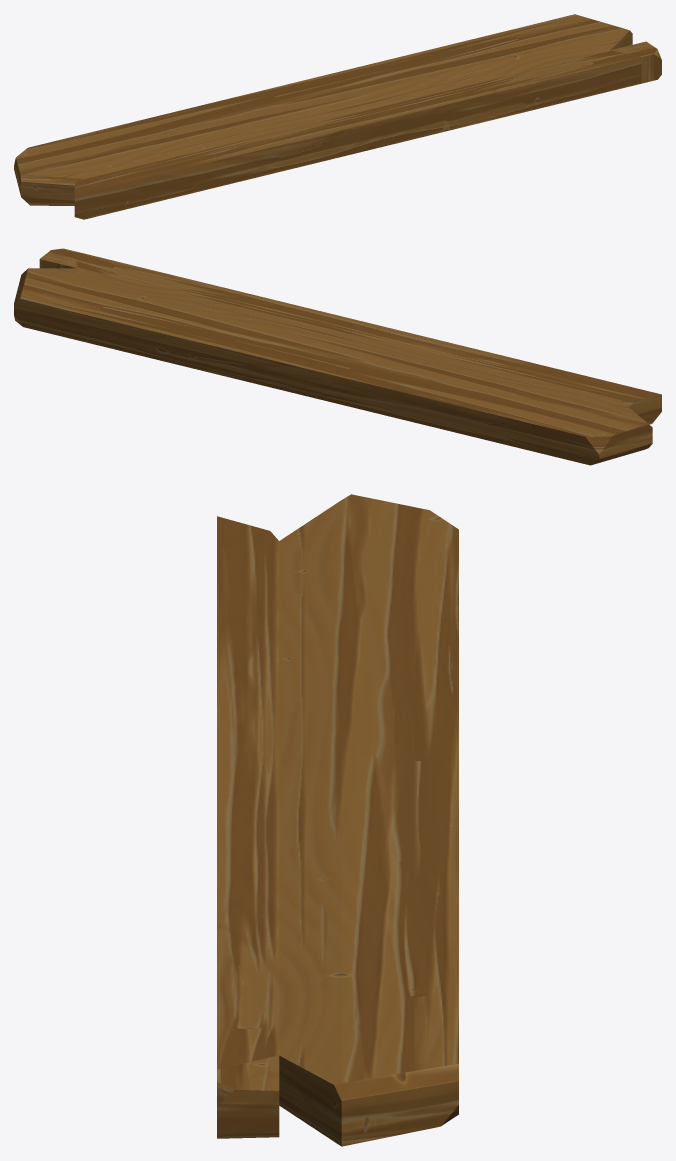
The model's file is planktextured.fbx.
3 views of the same model, one above another, from view 1: azimuth 30°, elevation 25°; view 2: azimuth 150°, elevation 25°; view 3: azimuth 270°, elevation 25° (orthographic). The views are drawn at different scales.
Visible parts, largest first — view 1: Cube; view 2: Cube; view 3: Cube.
Part boxes in pixels (left/top/right/bottom): Cube: left=14, top=14, right=661, bottom=219; Cube: left=14, top=248, right=661, bottom=465; Cube: left=217, top=494, right=458, bottom=1146.
Size of the model in its own units: 1166 by 52.32 by 200.
1 material, 1 textured.
